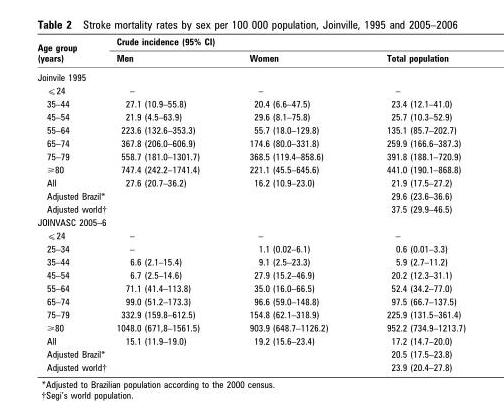table: (36, 36, 464, 373)
table column: (223, 36, 356, 373), (95, 36, 223, 373), (356, 36, 464, 373), (36, 36, 95, 373)
table column header: (36, 36, 464, 67)
table projected row header: (36, 67, 464, 83), (36, 216, 464, 228)
table row: (36, 49, 464, 67), (36, 67, 464, 83), (36, 83, 464, 97), (36, 149, 464, 163), (36, 202, 464, 216), (36, 228, 464, 242), (36, 294, 464, 308), (36, 36, 464, 49), (36, 97, 464, 110), (36, 110, 464, 123), (36, 123, 464, 136), (36, 136, 464, 149), (36, 163, 464, 176), (36, 176, 464, 189), (36, 189, 464, 202), (36, 242, 464, 255), (36, 255, 464, 268), (36, 268, 464, 281), (36, 281, 464, 294), (36, 308, 464, 321), (36, 321, 464, 334), (36, 334, 464, 347), (36, 347, 464, 360), (36, 360, 464, 373), (36, 216, 464, 228)
table spanning cell: (95, 36, 464, 49), (36, 202, 223, 216), (36, 189, 223, 202), (36, 347, 223, 360), (36, 360, 223, 373), (36, 36, 95, 67)
